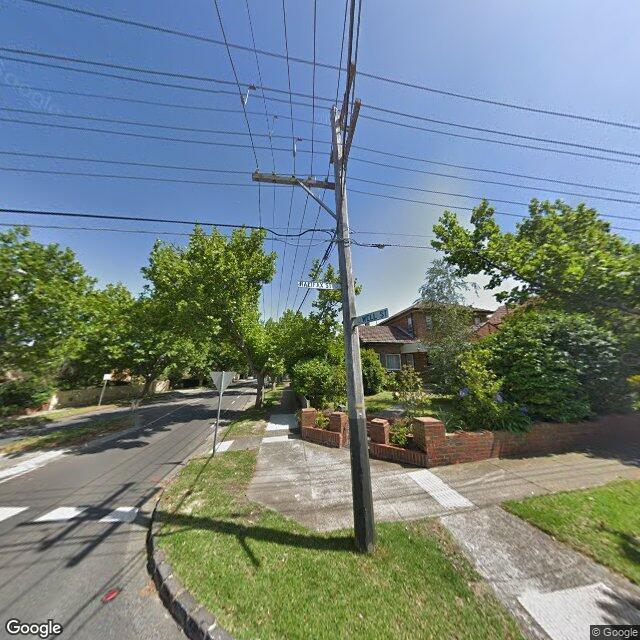crossarm: (250, 168, 336, 190), (343, 99, 362, 166), (339, 62, 358, 127)
timber-pole: (331, 105, 377, 550)
